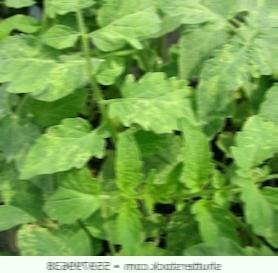Tomato leaf mosaic virus: (110, 67, 221, 131), (0, 31, 92, 98), (17, 115, 110, 180), (173, 13, 232, 84), (196, 44, 249, 121), (39, 169, 105, 225), (94, 0, 163, 52), (231, 109, 278, 180), (234, 175, 278, 250), (174, 114, 215, 191), (112, 124, 144, 193), (114, 195, 143, 253), (0, 198, 36, 234), (44, 23, 80, 49)
